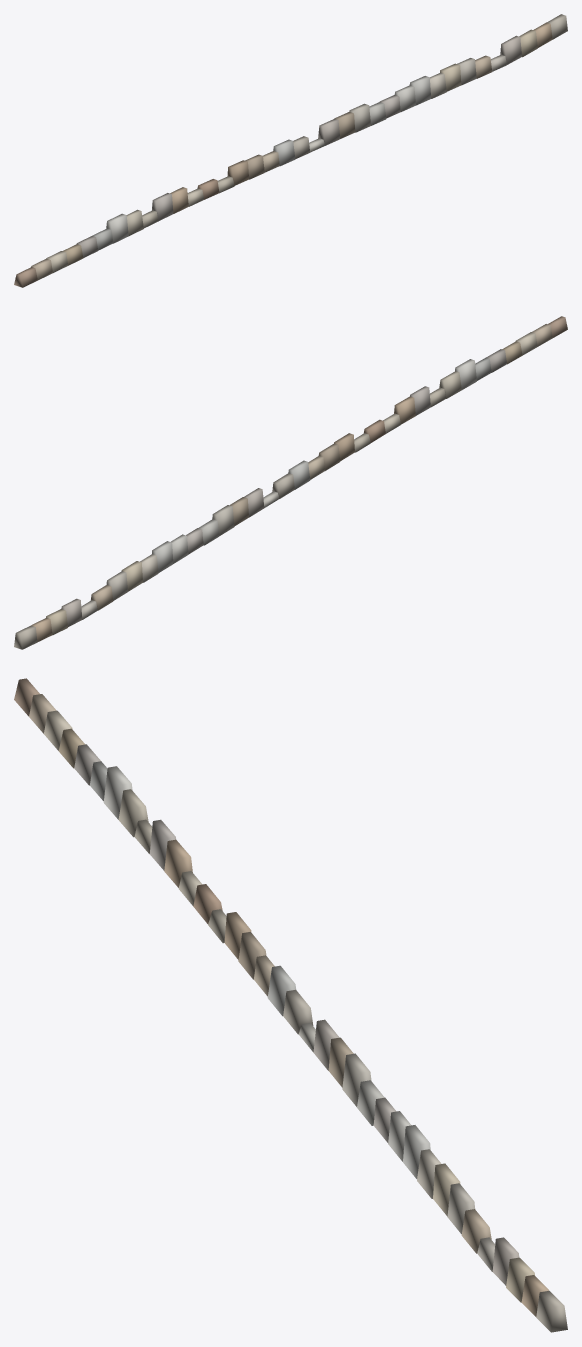
The model's file is farm_-23_-27_collision.glb.
The picture shows the model from 3 angles, top to bottom: view 1: azimuth 30°, elevation 25°; view 2: azimuth 210°, elevation 25°; view 3: azimuth 270°, elevation 25°; orthographic projection. The views are drawn at different scales.
Visible parts, largest first — view 1: geometry_0; view 2: geometry_0; view 3: geometry_0.
Boxes of the visible parts, <box> form: geometry_0: <box>14,14,567,287</box>; geometry_0: <box>14,316,567,649</box>; geometry_0: <box>14,678,567,1332</box>.
Bounding box in the file's own units: 53.48 × 3.65 × 21.5.
